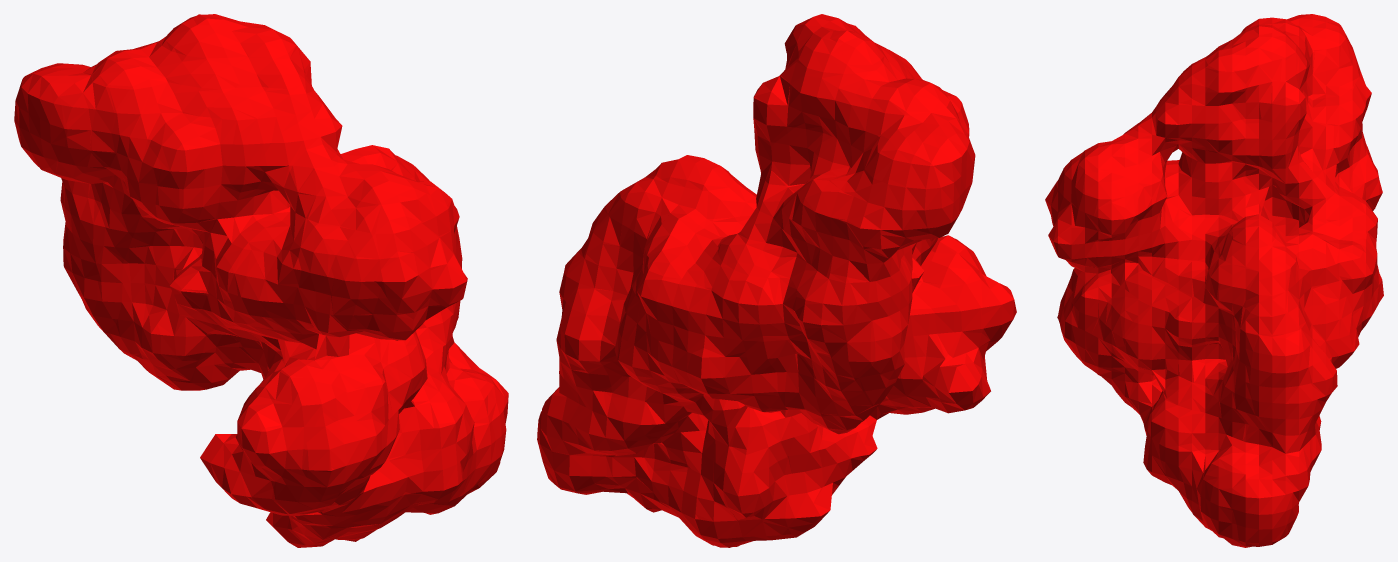
Rendered from tsf_coarse.dae.
The picture shows the model from 3 angles, left to right: view 1: azimuth 30°, elevation 25°; view 2: azimuth 150°, elevation 25°; view 3: azimuth 270°, elevation 25°; orthographic projection. The views are drawn at different scales.
Parts seen in each view (by area): view 1: tsf; view 2: tsf; view 3: tsf.
Boxes of the visible parts, x1,y1,x2,y2 form: tsf: [14, 14, 508, 547]; tsf: [537, 14, 1016, 547]; tsf: [1045, 14, 1383, 547].
Size of the model in its own units: 104 by 123 by 85.35.
